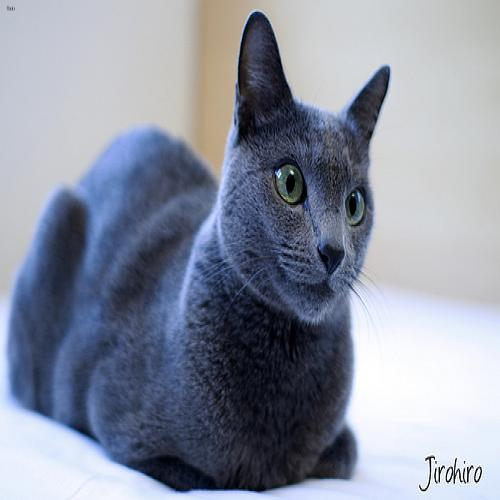rblue: (218, 7, 396, 353)
